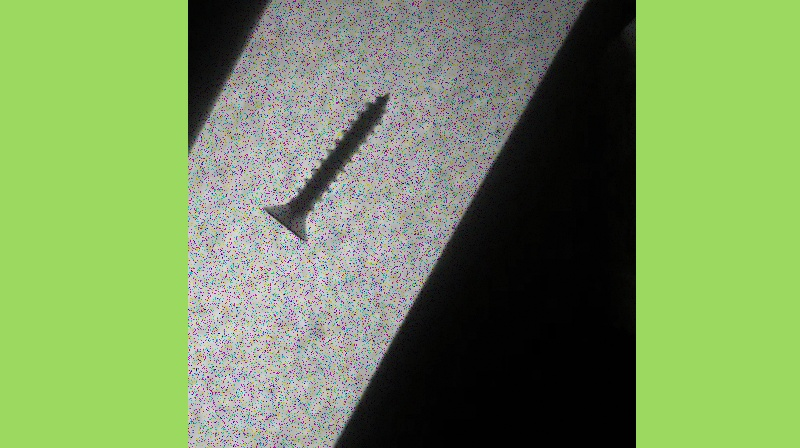S001: (258, 87, 393, 245)
